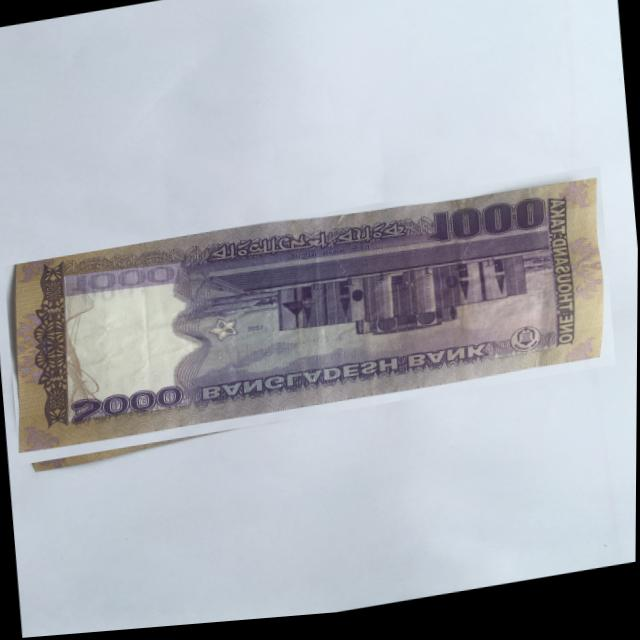Taka: (3, 175, 617, 466)
